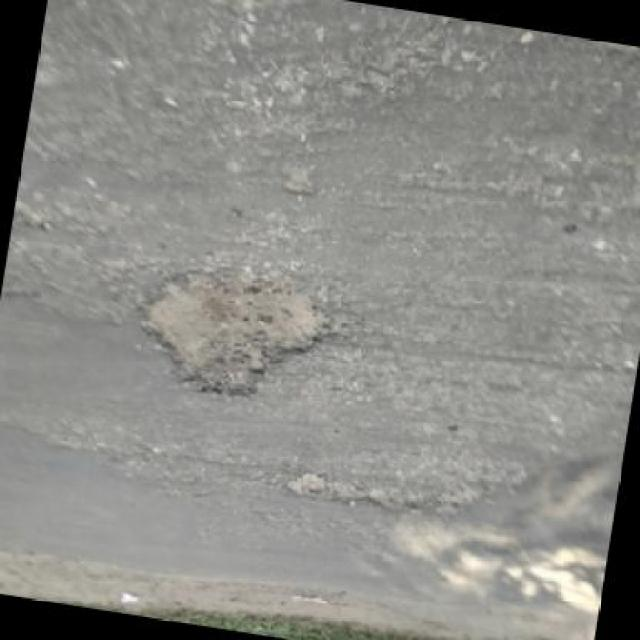pothole1: (127, 253, 353, 418), (276, 466, 432, 522)
